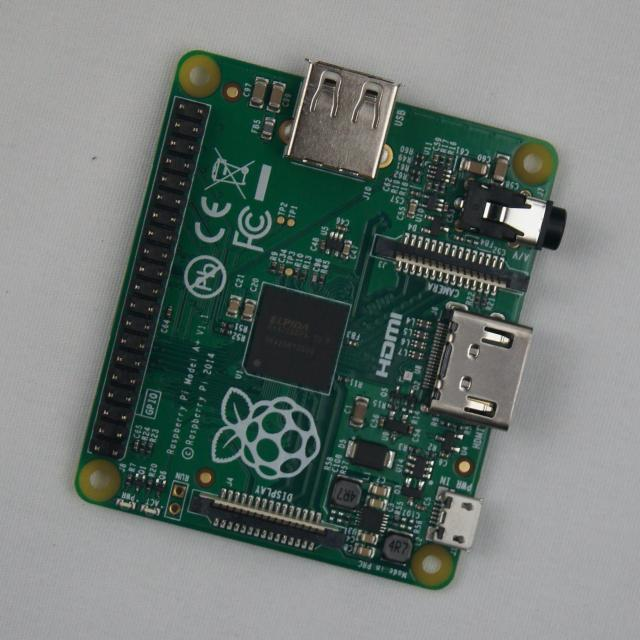Raspberry-Pi-1-A-: (77, 52, 566, 589)
